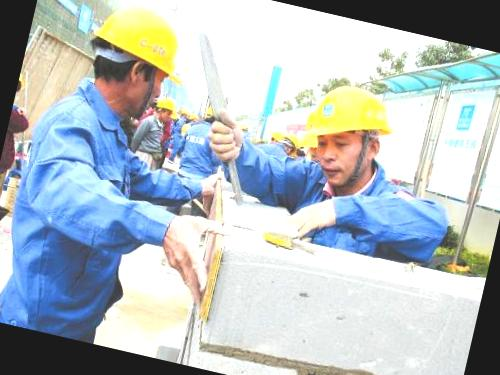person: (0, 0, 251, 362), (181, 57, 488, 282), (119, 90, 187, 194), (168, 96, 236, 199)
